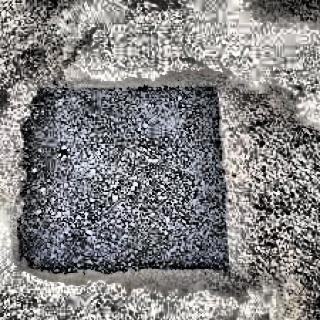pothole: (14, 78, 240, 285)
